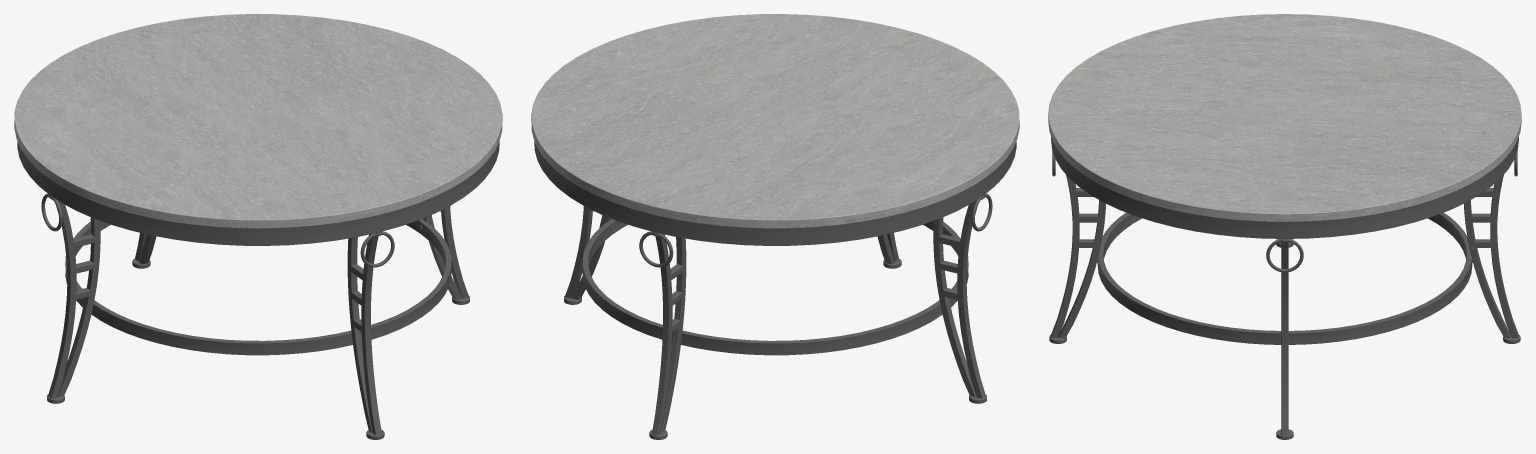
3 renders of one model, left to right at view 1: azimuth 30°, elevation 25°; view 2: azimuth 150°, elevation 25°; view 3: azimuth 270°, elevation 25°, orthographic. The views are drawn at different scales.
Visible parts, largest first — view 1: B07R8WD99Z; view 2: B07R8WD99Z; view 3: B07R8WD99Z.
Boxes of the visible parts, bbox=[...] form: B07R8WD99Z: bbox=[14, 14, 502, 439]; B07R8WD99Z: bbox=[531, 14, 1019, 439]; B07R8WD99Z: bbox=[1048, 14, 1521, 439].
Size of the model in its own units: 0.889 by 0.47 by 0.889.
Materials: 1 (1 with a texture image).
